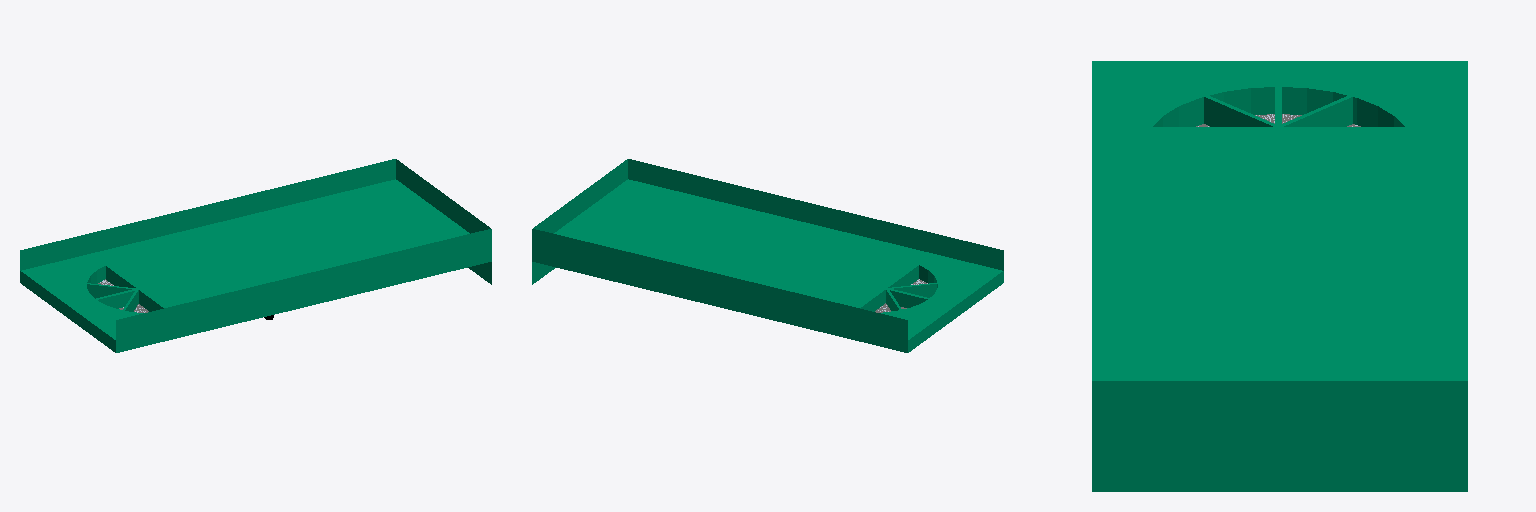
URDF robot description (right-pull-door):
<robot name="right-pull-door">
	<link name="base" />
	<link name="link_0">
		<visual name="out-frame">
			<origin xyz="0 0 0" />
			<geometry>
				<mesh filename="texture_dae/frame.dae" scale="0.78487892076762 0.78487892076762 0.78487892076762" />
			</geometry>
		</visual>
		<collision>
			<origin xyz="0 0 0" />
			<geometry>
				<mesh filename="texture_dae/frame.dae" scale="0.78487892076762 0.78487892076762 0.78487892076762" />
			</geometry>
		</collision>
	</link>
	<joint name="joint_0" type="fixed">
		<origin rpy="1.570796326794897 0 -1.570796326794897" xyz="0 0 0" />
		<child link="link_0" />
		<parent link="base" />
	</joint>
	<link name="link_1">
		<visual name="surf-board">
			<origin xyz="0.36413636870815214 -0.8003916253740894 0" />
			<geometry>
				<mesh filename="texture_dae/board.dae" scale="0.78487892076762 0.78487892076762 0.78487892076762" />
			</geometry>
		</visual>
		<collision>
			<origin xyz="0.36413636870815214 -0.8003916253740894 0" />
			<geometry>
				<mesh filename="texture_dae/board.dae" scale="0.78487892076762 0.78487892076762 0.78487892076762" />
			</geometry>
		</collision>
	</link>
	<joint name="joint_1" type="revolute">
		<origin xyz="-0.36413636870815214 0.8003916253740894 0" />
		<axis xyz="0 -1 0" />
		<child link="link_1" />
		<parent link="link_0" />
		<limit lower="0" upper="1.5079644737231006" />
	</joint>
	<link name="link_2">
		<visual name="handle">
			<origin xyz="0 0 0" />
			<geometry>
				<mesh filename="texture_dae/9960011.dae" scale="0.9595700037256313 0.9595700037256313 0.9595700037256313" />
			</geometry>
		</visual>
		<collision>
			<origin xyz="0 0 0" />
			<geometry>
				<mesh filename="texture_dae/9960011.dae" scale="0.9595700037256313 0.9595700037256313 0.9595700037256313" />
			</geometry>
		</collision>
	</link>
	<joint name="joint_2" type="revolute">
		<origin xyz="0.6550969800856979 -0.8683876687534127 0.06941901749717554" />
		<child link="link_2" />
		<parent link="link_1" />
		<axis xyz="0 0 1" />
		<limit lower="0" upper="0" />
	</joint>
</robot>

--- Render facts (derived) ---
The picture shows the robot from 3 angles, left to right: view 1: azimuth 30°, elevation 25°; view 2: azimuth 150°, elevation 25°; view 3: azimuth 270°, elevation 25°; orthographic projection.
Robot: right-pull-door — 4 links, 3 joints (2 revolute, 1 fixed); root link base; default pose: all joints at 0.
Links seen in each view (by area): view 1: link_1; view 2: link_1; view 3: link_1.
Boxes of the visible links, x1=… form: link_1: x1=20, y1=159, x2=491, y2=352; link_1: x1=532, y1=159, x2=1003, y2=352; link_1: x1=1092, y1=61, x2=1467, y2=491.
Size in the robot's own frame: 1.67 by 0.7351 by 0.2392 metres.
Meshes: 3 distinct files referenced, 2 mesh visuals loaded (2 Collada DAE); not drawn: 1 (reference not matched to a file when rendering).
